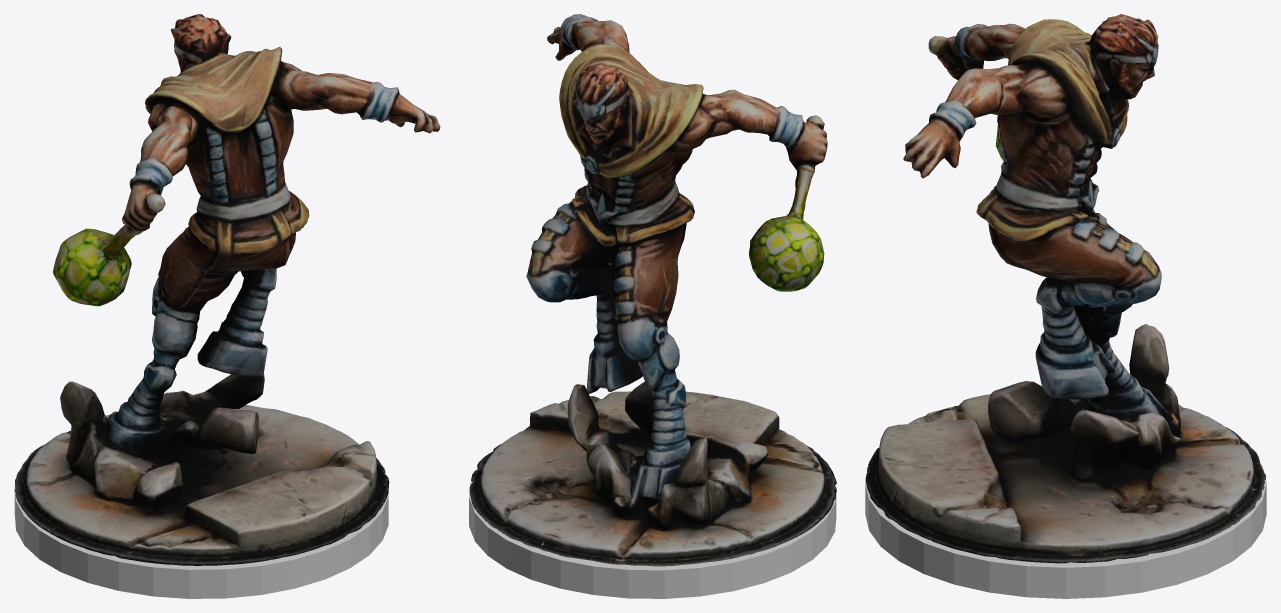
3 renders of one model, left to right at view 1: azimuth 30°, elevation 25°; view 2: azimuth 150°, elevation 25°; view 3: azimuth 270°, elevation 25°, orthographic. The views are drawn at different scales.
Parts seen in each view (by area): view 1: default, Gorgan; view 2: default, Gorgan; view 3: default, Gorgan.
Part boxes in pixels (left/top/right/bottom): default: left=14, top=14, right=440, bottom=565; Gorgan: left=14, top=485, right=388, bottom=598; default: left=469, top=14, right=836, bottom=566; Gorgan: left=469, top=481, right=836, bottom=598; default: left=865, top=14, right=1265, bottom=563; Gorgan: left=865, top=463, right=1266, bottom=598.
Bounding box in the file's own units: 1.42 × 1.93 × 1.38.
Materials: 2 (1 with a texture image).
